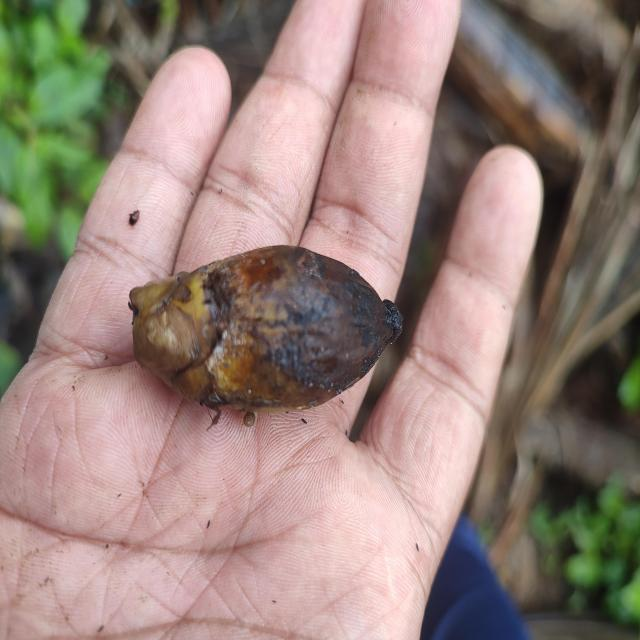damaged: (129, 246, 402, 425)
